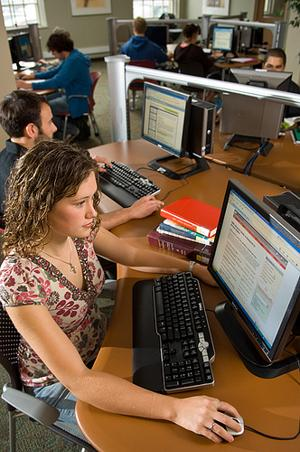person: (2, 138, 243, 446)
